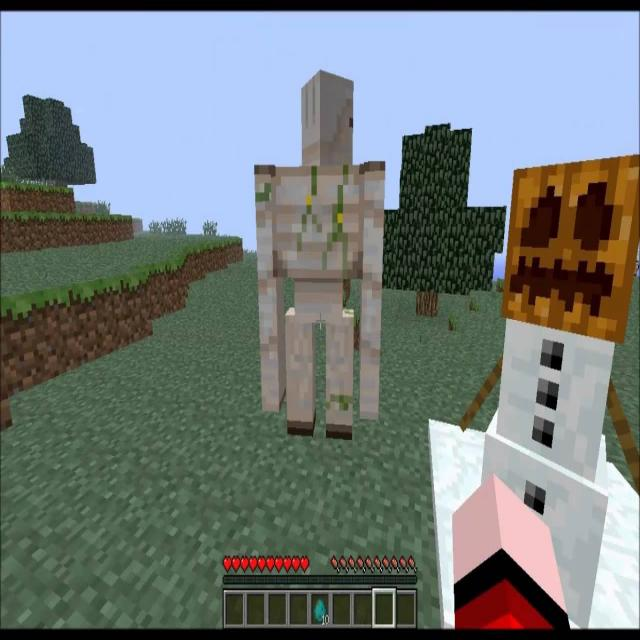Iron Golem: (247, 63, 385, 445)
